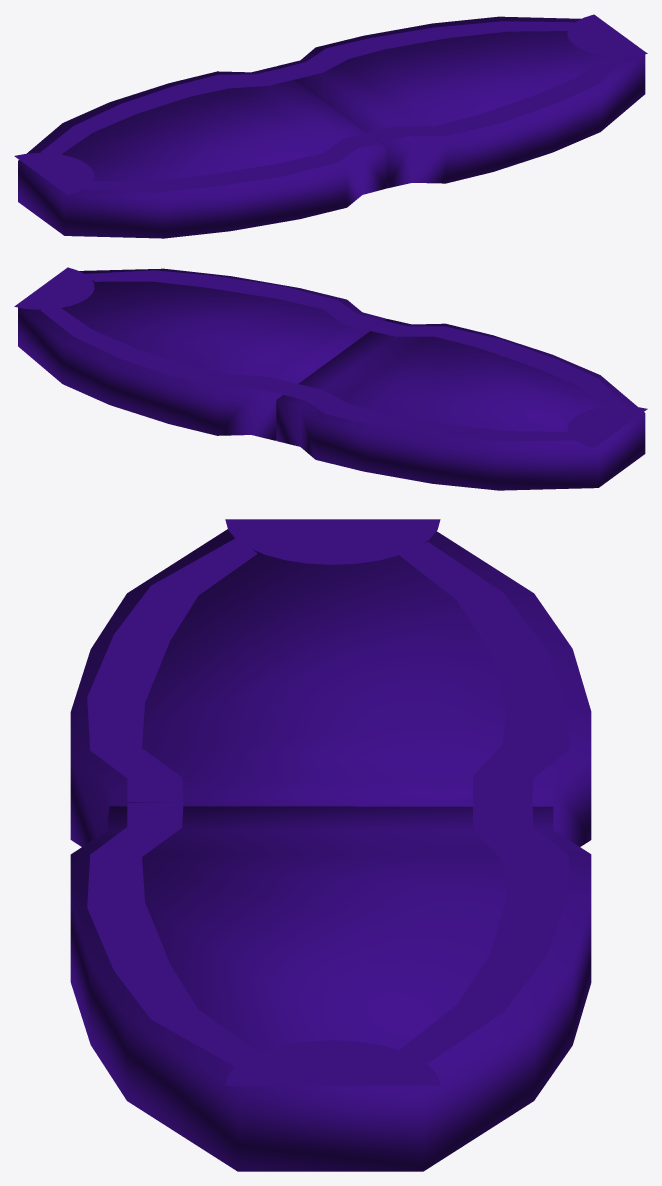
Rendered from Map.obj.
3 views of the same model, one above another, from view 1: azimuth 30°, elevation 25°; view 2: azimuth 150°, elevation 25°; view 3: azimuth 270°, elevation 25° (orthographic). The views are drawn at different scales.
Visible parts, largest first — view 1: Base; view 2: Base; view 3: Base.
Part boxes in pixels (x1=…): Base: x1=14, y1=14, x2=647, y2=238; Base: x1=14, y1=267, x2=647, y2=490; Base: x1=70, y1=519, x2=591, y2=1171.
Bounding box in the file's own units: 72226 × 5083 × 28031.
